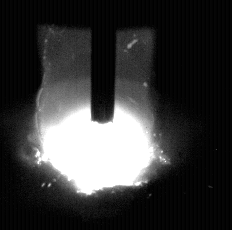arame: (91, 0, 116, 125)
poca: (35, 0, 156, 230)
